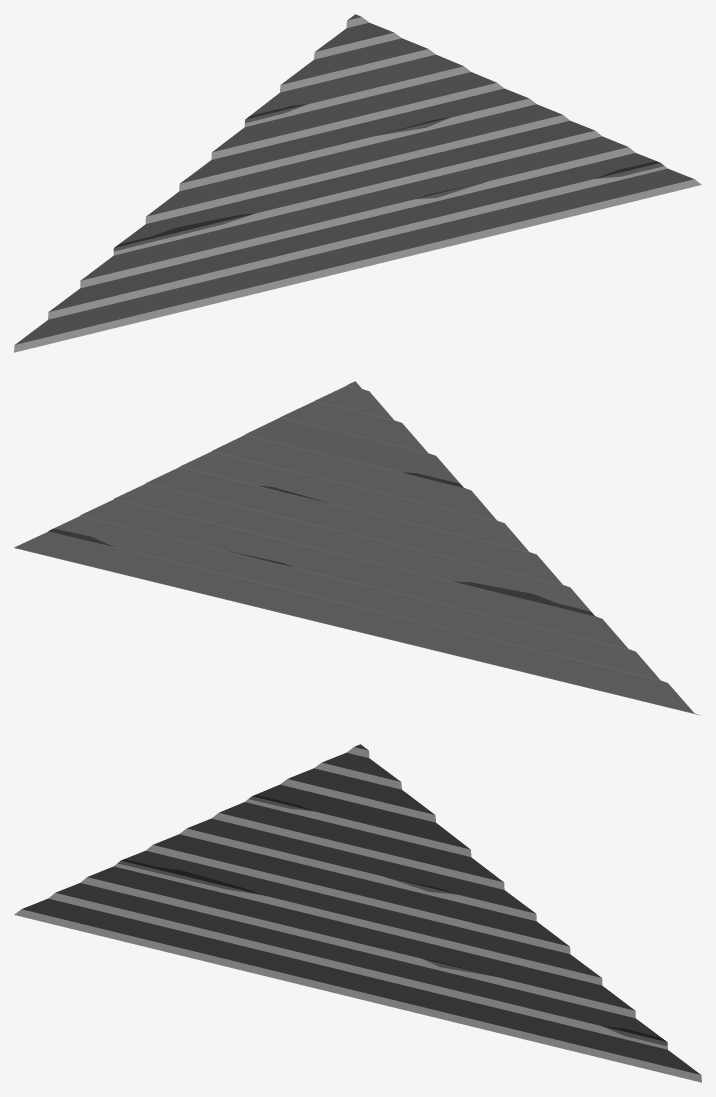
File: builder_13.FBX
The picture shows the model from 3 angles, top to bottom: view 1: azimuth 30°, elevation 25°; view 2: azimuth 150°, elevation 25°; view 3: azimuth 330°, elevation 25°; orthographic projection.
Parts seen in each view (by area): view 1: builder_13; view 2: builder_13; view 3: builder_13.
Part boxes in pixels (bbox=[...]): builder_13: bbox=[14, 14, 701, 352]; builder_13: bbox=[14, 381, 699, 715]; builder_13: bbox=[14, 744, 701, 1082].
Size of the model in its own units: 240 by 84.18 by 2.1.
